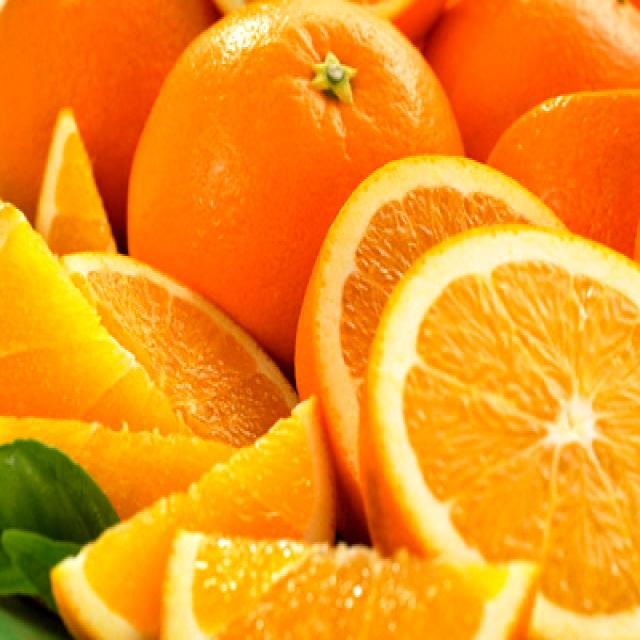orange: (342, 163, 637, 631), (131, 3, 468, 382), (36, 392, 346, 632)
